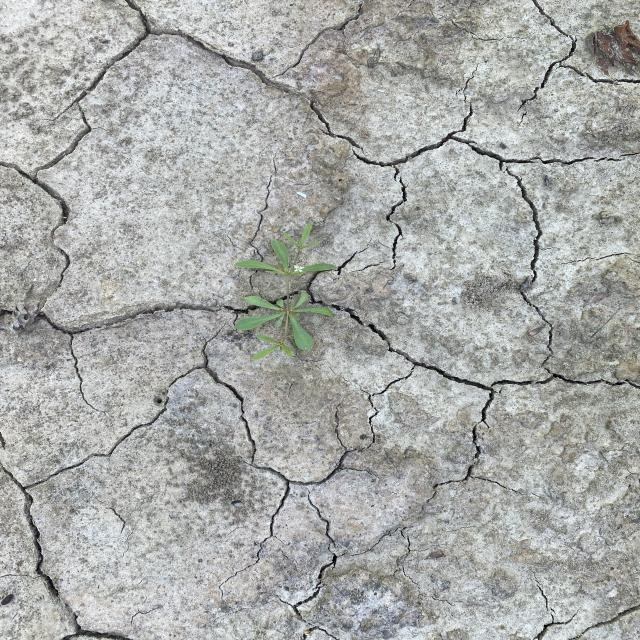Carpetweed: (231, 217, 340, 361)
